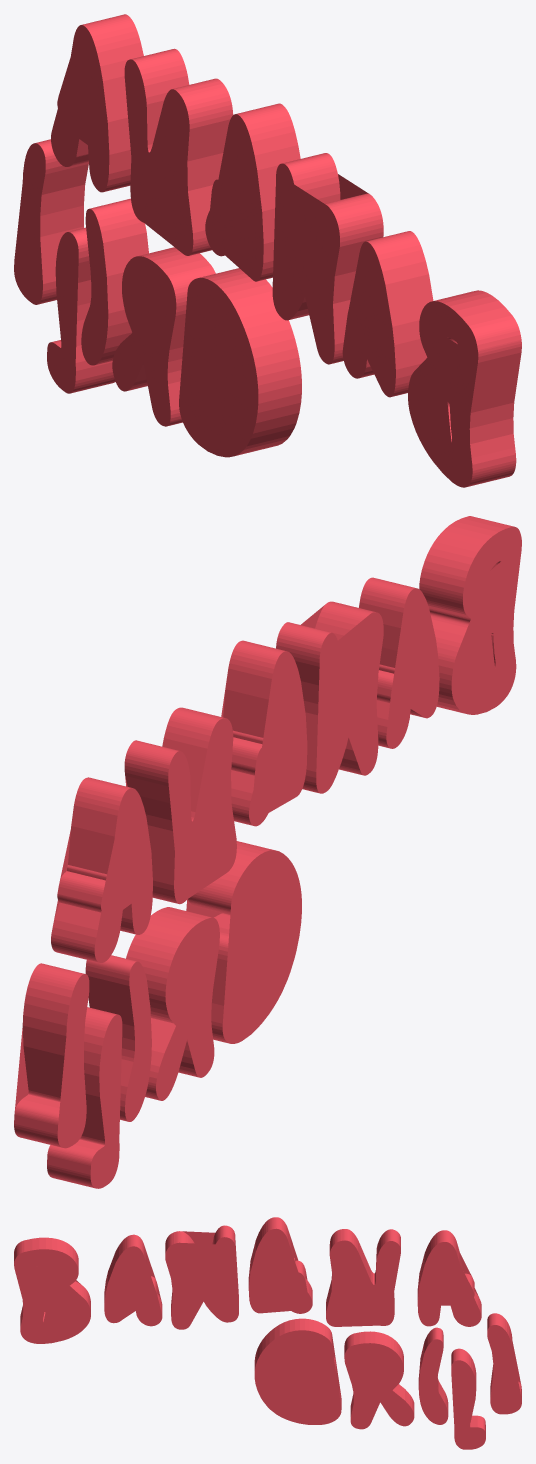
File: name.obj
3 views of the same model, one above another, from view 1: azimuth 30°, elevation 25°; view 2: azimuth 150°, elevation 25°; view 3: azimuth 270°, elevation 25° (orthographic). The views are drawn at different scales.
Parts seen in each view (by area): view 1: Text.001; view 2: Text.001; view 3: Text.001.
Part boxes in pixels (x1,y1,x2,y2): Text.001: (14, 14, 521, 487); Text.001: (14, 516, 521, 1188); Text.001: (14, 1217, 521, 1449).
Bounding box in the file's own units: 0.7408 × 6.55 × 13.65.
